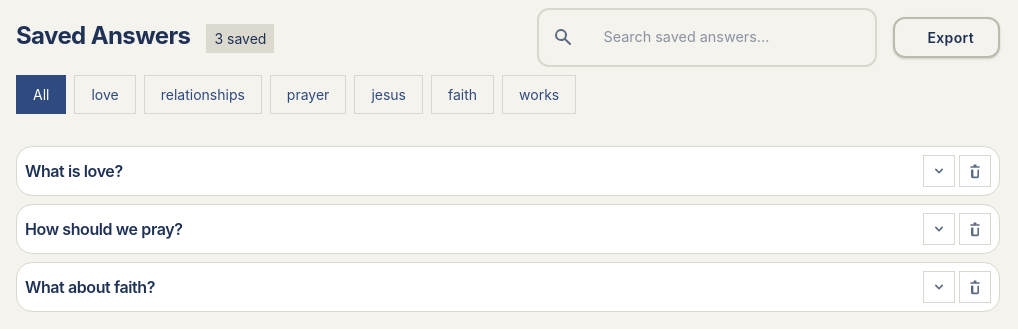
Scenario: SavedAnswers.vue › renders tag filters and filters by selected tag
This screenshot has width=1018, height=329.
Click the button with class "tag-button" showing "faith".
click(463, 94)  # box left=431, top=75, right=494, bottom=114
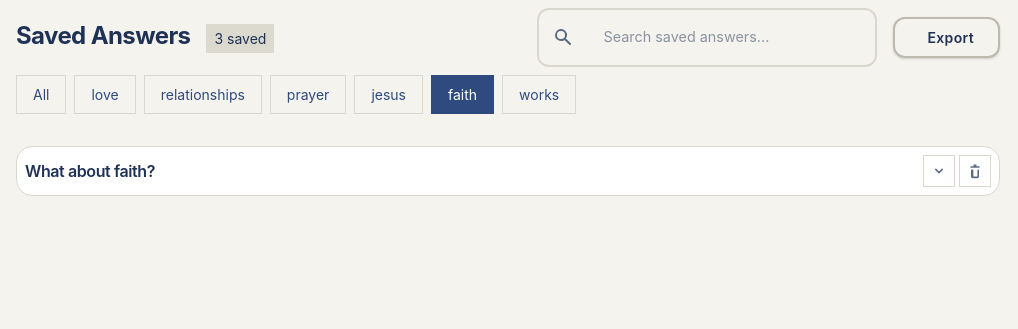
Expected: the element with class "answer-card" shows "faith", left=25, top=161, right=155, bottom=181
Now the number of elements with class "answer-card" is 1, box left=16, top=146, right=1000, bottom=196
